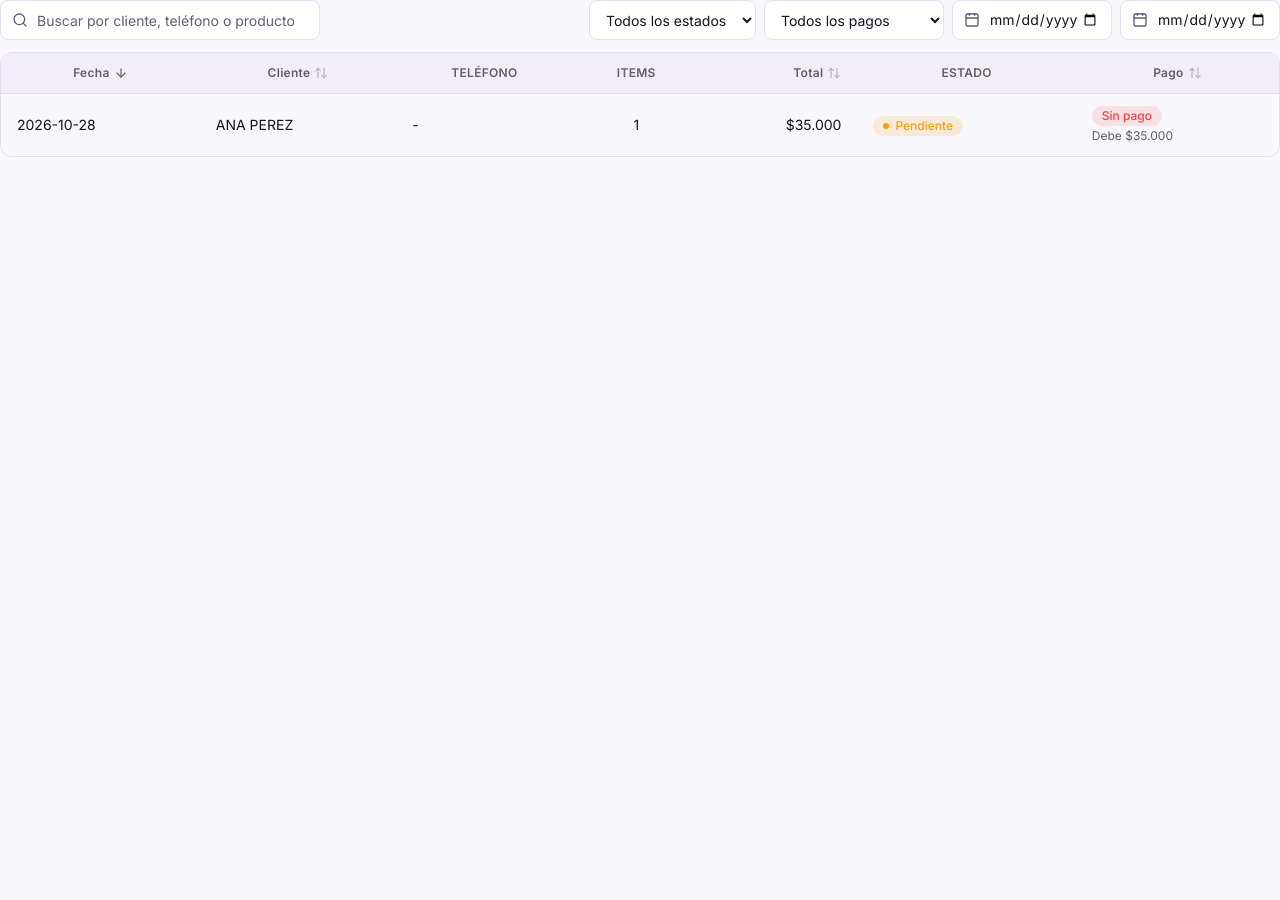
Test case: business tables › opens an order detail drawer with customer, items, and totals
Click the text "ANA PEREZ" at (255, 124), box [200,94,396,156]
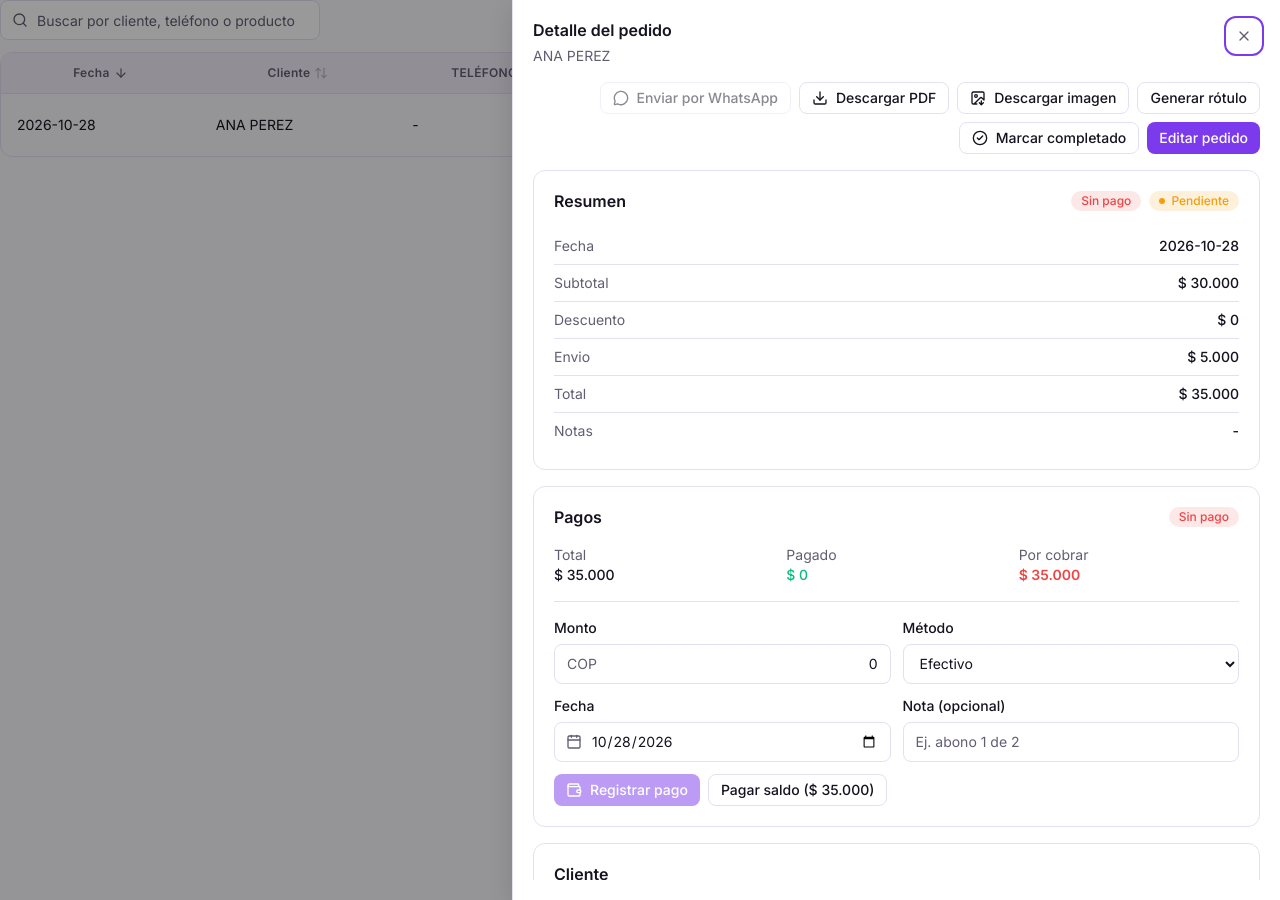
Expected: the text "$35.000" is shown, [700,94,857,156]
Expected: the dialog "Detalle del pedido" is shown, [512,0,1279,899]
